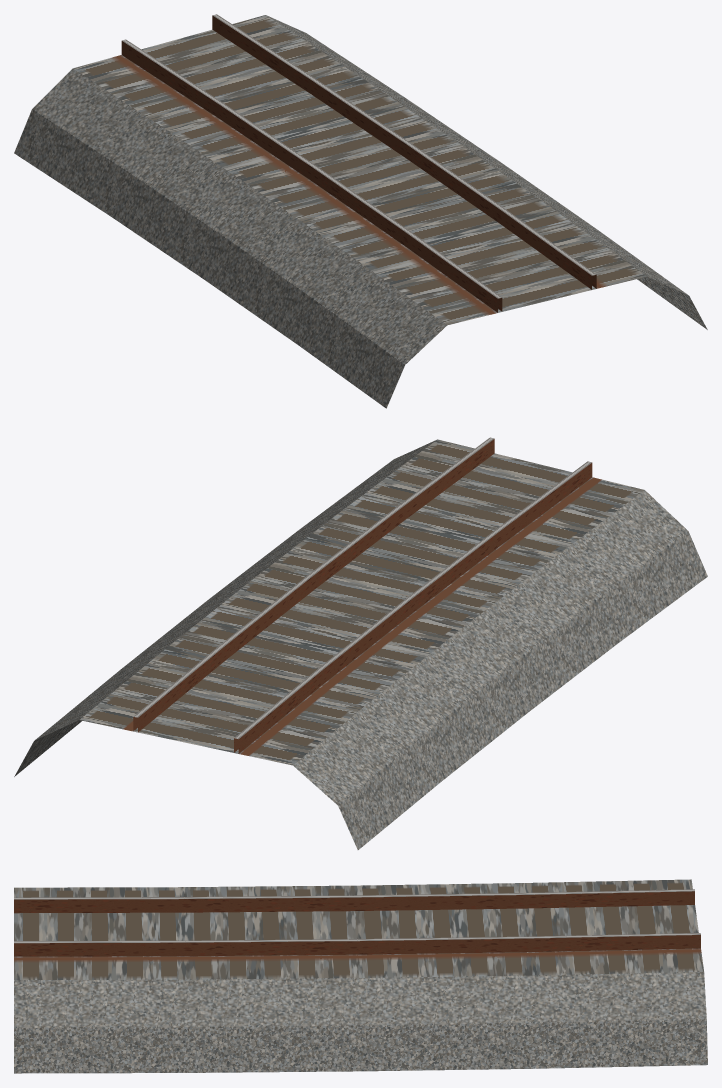
The model's file is rail_track_curve_r175_10m_l_v2_lod1.glb.
3 renders of one model, top to bottom at view 1: azimuth 30°, elevation 25°; view 2: azimuth 150°, elevation 25°; view 3: azimuth 270°, elevation 25°, orthographic. The views are drawn at different scales.
Parts seen in each view (by area): view 1: rail_track_curve_r175_10m_l_v2_lod1; view 2: rail_track_curve_r175_10m_l_v2_lod1; view 3: rail_track_curve_r175_10m_l_v2_lod1.
Boxes of the visible parts, x1,y1,x2,y2 form: rail_track_curve_r175_10m_l_v2_lod1: (14,14,707,408); rail_track_curve_r175_10m_l_v2_lod1: (14,437,707,849); rail_track_curve_r175_10m_l_v2_lod1: (14,879,707,1073).
Bounding box in the file's own units: 5.43 × 1.27 × 10.14.
Materials: 2 (2 with a texture image).
